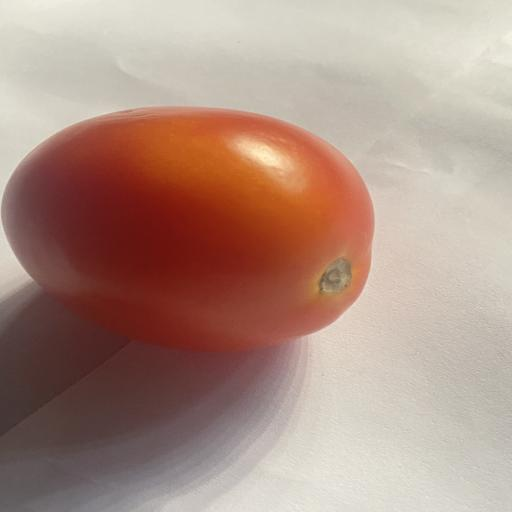ripe: (2, 106, 374, 351)
